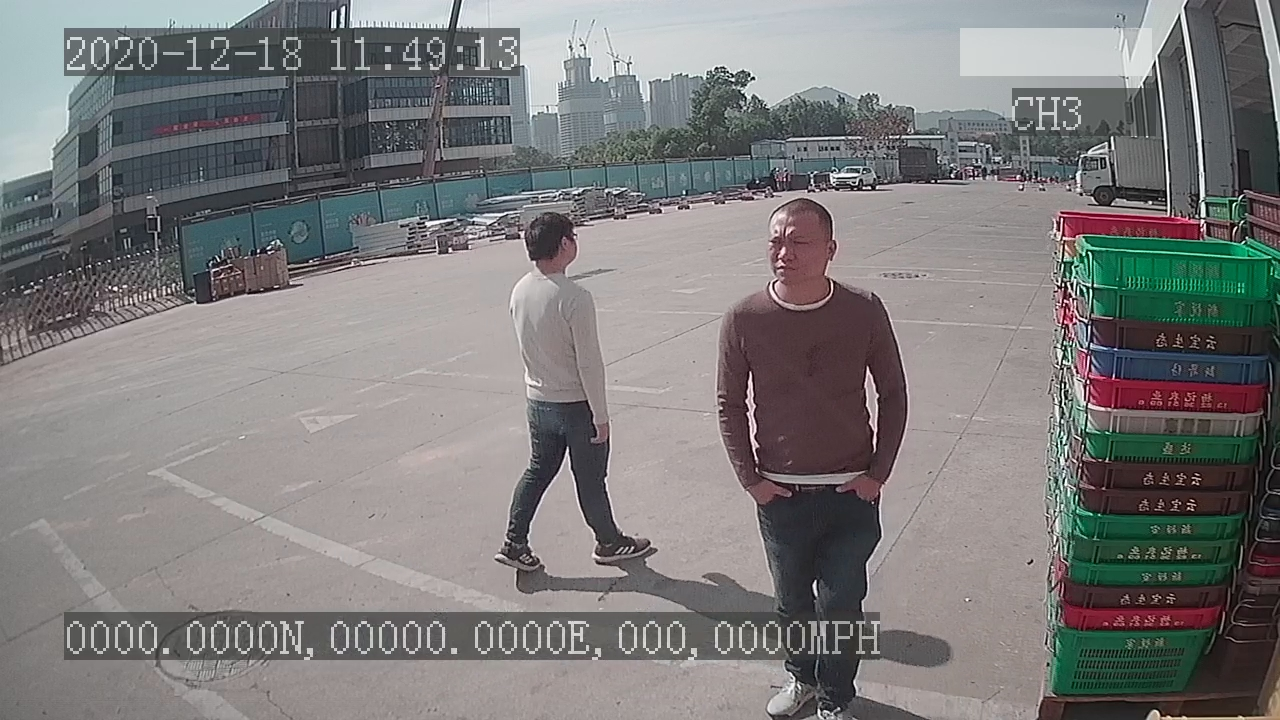person: (490, 210, 658, 574)
